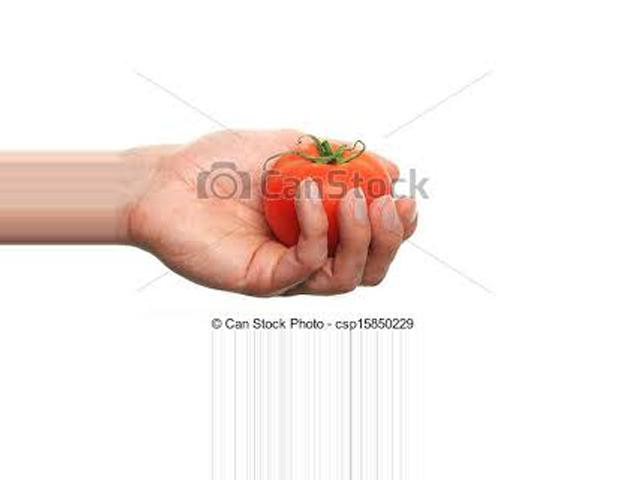tomato: (266, 143, 392, 253)
